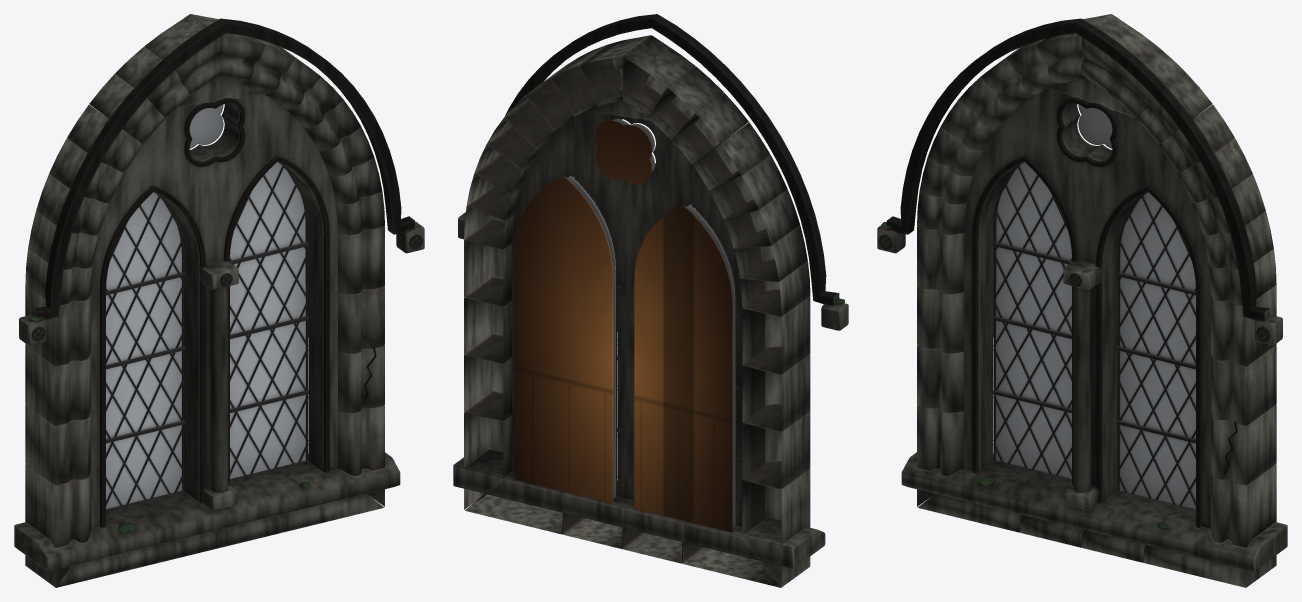
The model's file is TwinLancet.fbx.
The picture shows the model from 3 angles, left to right: view 1: azimuth 30°, elevation 25°; view 2: azimuth 150°, elevation 25°; view 3: azimuth 330°, elevation 25°; orthographic projection. The views are drawn at different scales.
Parts seen in each view (by area): view 1: TwinLancet_Main, TwinLancet_Glass; view 2: TwinLancet_Main, TwinLancet_Room, TwinLancet_Glass; view 3: TwinLancet_Main, TwinLancet_Glass.
Boxes of the visible parts, bbox=[...] form: TwinLancet_Main: bbox=[14, 14, 424, 587]; TwinLancet_Glass: bbox=[106, 104, 305, 509]; TwinLancet_Main: bbox=[453, 14, 848, 587]; TwinLancet_Room: bbox=[515, 120, 732, 532]; TwinLancet_Glass: bbox=[566, 119, 735, 526]; TwinLancet_Main: bbox=[877, 14, 1287, 587]; TwinLancet_Glass: bbox=[996, 104, 1195, 509].
Size of the model in its own units: 674 by 858 by 110.
